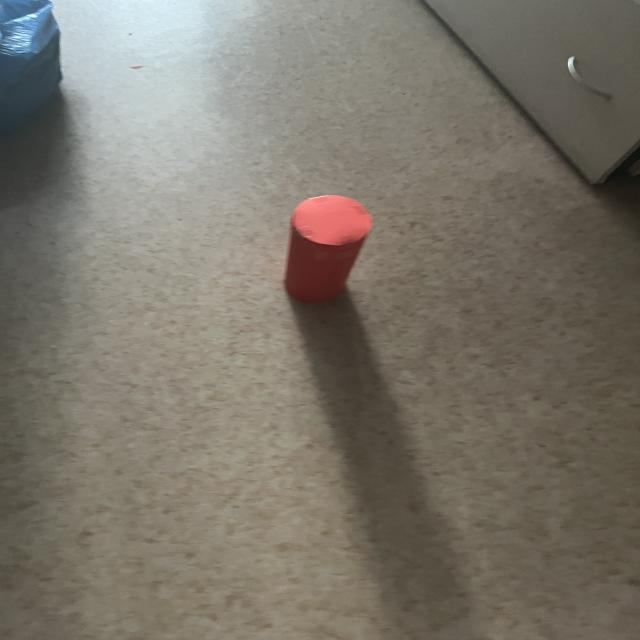przeszkoda: (284, 195, 372, 303)
